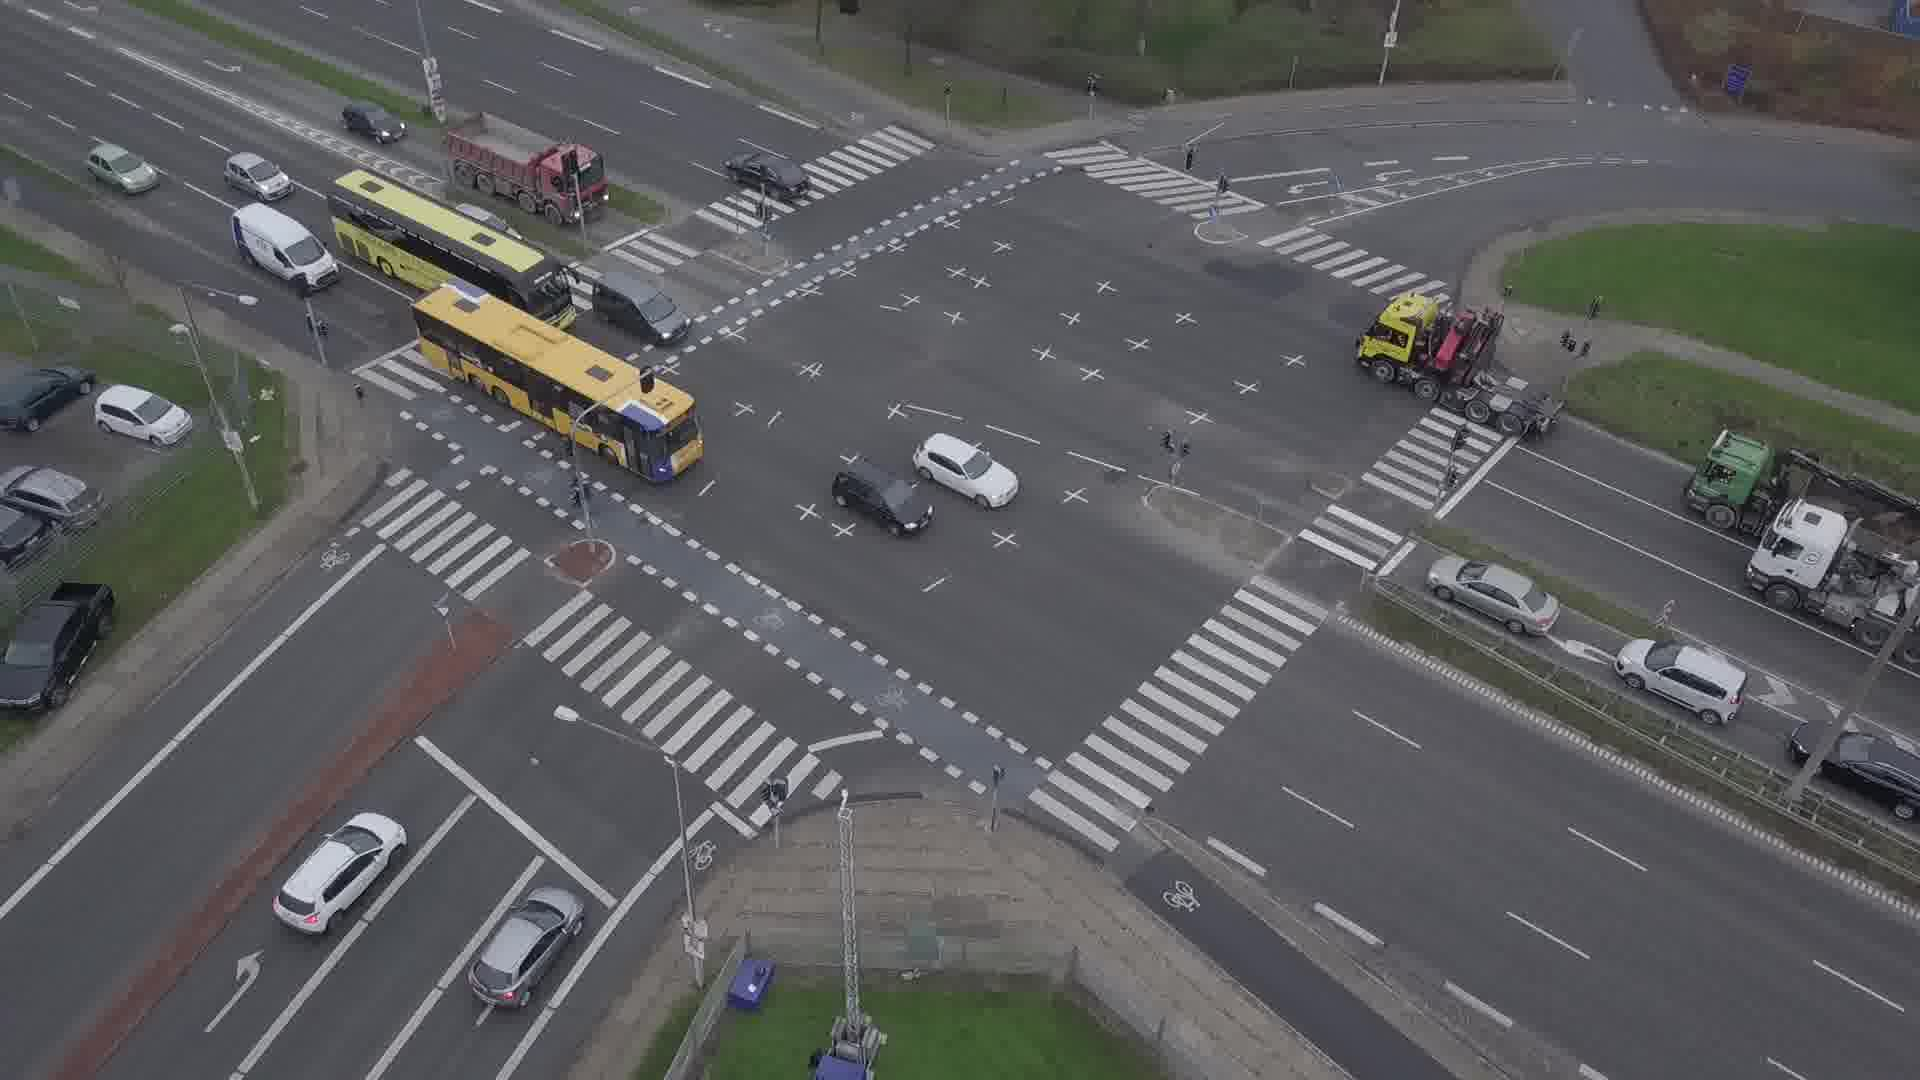bicycle: (564, 475, 594, 512)
bus: (412, 279, 704, 481), (332, 167, 579, 328)
car: (273, 813, 409, 932), (467, 887, 585, 1009), (1788, 721, 1920, 820), (1614, 637, 1746, 726), (1425, 556, 1561, 637), (912, 432, 1018, 508), (592, 270, 691, 343), (831, 463, 934, 533), (721, 152, 809, 201), (85, 143, 156, 194), (224, 152, 292, 201), (340, 99, 406, 146), (458, 202, 509, 228)
lorry: (1354, 289, 1573, 440), (1686, 429, 1920, 554), (441, 109, 610, 226), (231, 202, 340, 290)
